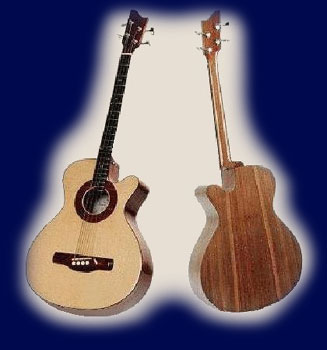guitar: (27, 11, 156, 316), (187, 10, 304, 312)
